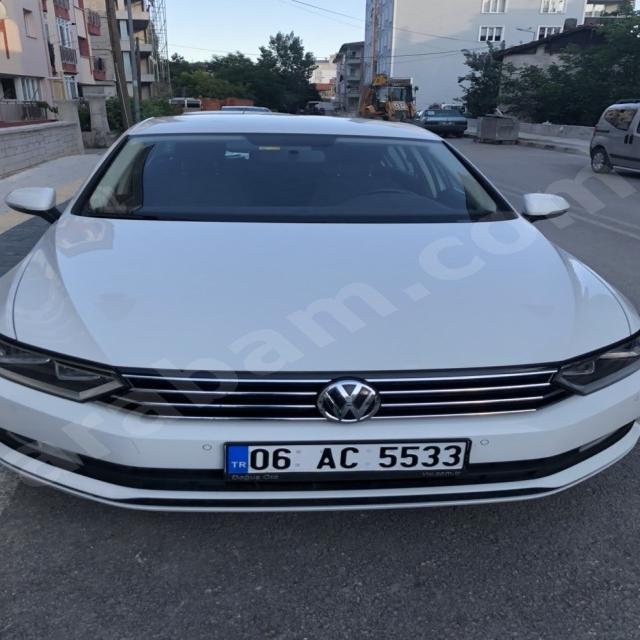license_plate: (225, 441, 468, 474)
